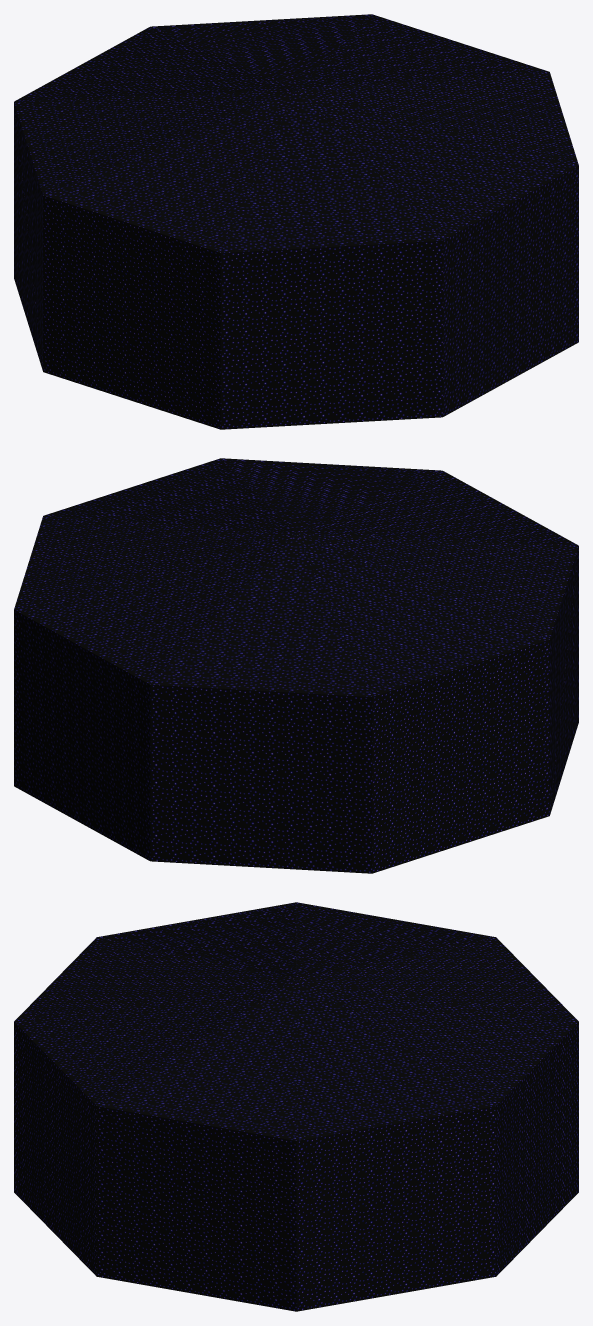
File: mk-ds-_rainbow_road.glb
3 views of the same model, one above another, from view 1: azimuth 30°, elevation 25°; view 2: azimuth 150°, elevation 25°; view 3: azimuth 270°, elevation 25° (orthographic). The views are drawn at different scales.
Parts seen in each view (by area): view 1: Object_7; view 2: Object_7; view 3: Object_7.
Boxes of the visible parts, x1,y1,x2,y2 form: Object_7: (14, 14, 578, 429); Object_7: (14, 458, 578, 873); Object_7: (14, 902, 578, 1311).
Bounding box in the file's own units: 7200 × 3600 × 7200.
6 materials, 5 textured.
